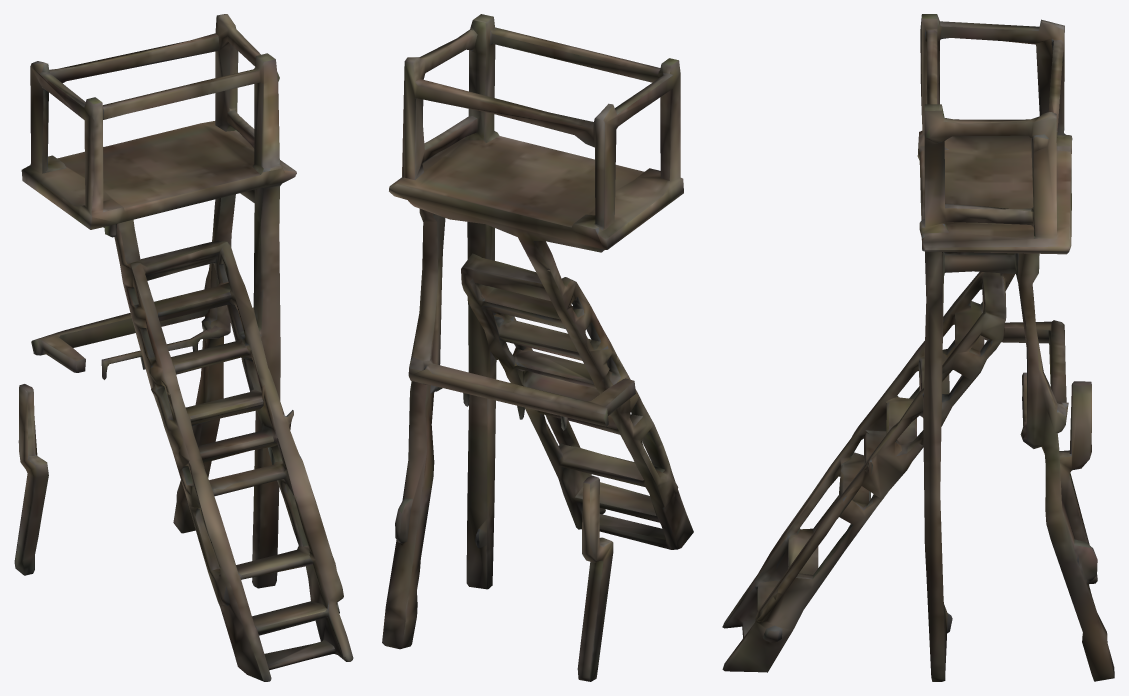
Rendered from weathered-wood-scaffold-tower-v001.glb.
The picture shows the model from 3 angles, left to right: view 1: azimuth 30°, elevation 25°; view 2: azimuth 150°, elevation 25°; view 3: azimuth 270°, elevation 25°; orthographic projection. The views are drawn at different scales.
Parts seen in each view (by area): view 1: weathered-wood-scaffold-tower; view 2: weathered-wood-scaffold-tower; view 3: weathered-wood-scaffold-tower.
Boxes of the visible parts, box(x1,y1,x2,y2) form: weathered-wood-scaffold-tower: box(14, 14, 353, 681); weathered-wood-scaffold-tower: box(382, 14, 693, 681); weathered-wood-scaffold-tower: box(722, 14, 1114, 681).
Size of the model in its own units: 1.32 by 3.21 by 2.
Materials: 1 (1 with a texture image).
